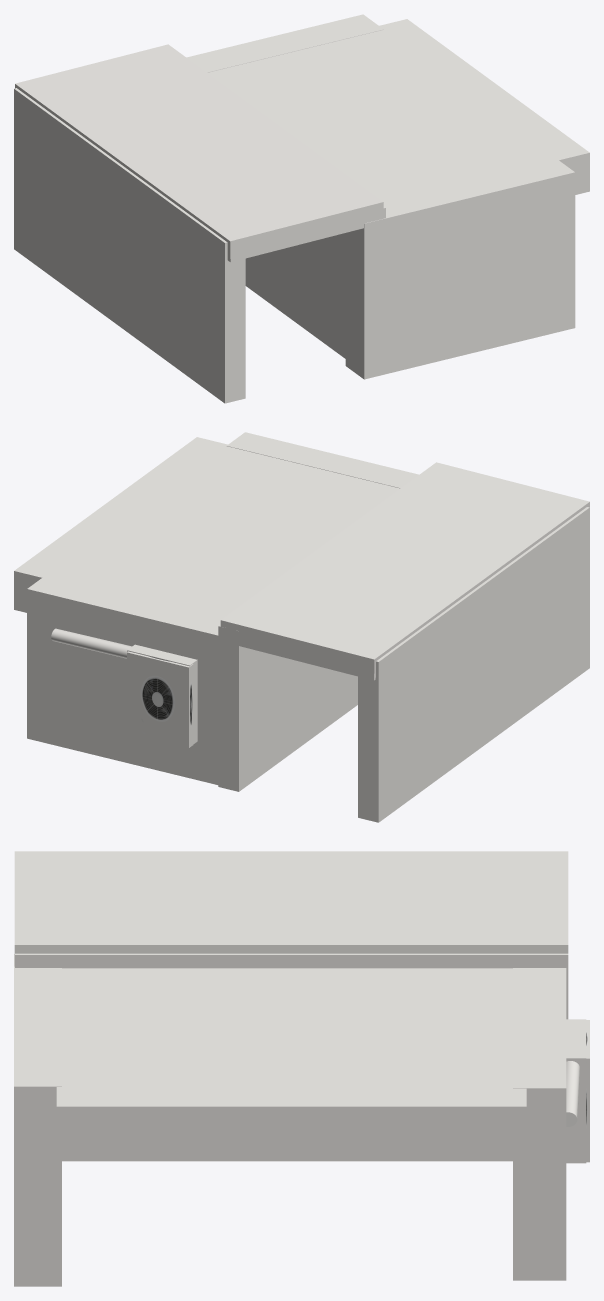
Rendered from factory_model.gltf.
3 views of the same model, one above another, from view 1: azimuth 30°, elevation 25°; view 2: azimuth 150°, elevation 25°; view 3: azimuth 270°, elevation 25° (orthographic). The views are drawn at different scales.
Visible parts, largest first — view 1: مكعب (×6); view 2: مكعب (×8), أسطوانة; view 3: مكعب (×7), أسطوانة.
Part boxes in pixels (bbox=[...]): مكعب (×6): bbox=[14, 14, 589, 403]; مكعب (×8): bbox=[14, 432, 589, 822]; أسطوانة: bbox=[51, 628, 131, 658]; مكعب (×7): bbox=[14, 851, 589, 1286]; أسطوانة: bbox=[566, 1061, 579, 1126].
Bounding box in the file's own units: 4.94 × 2.15 × 5.06.
Materials: 9 (9 with a texture image).
